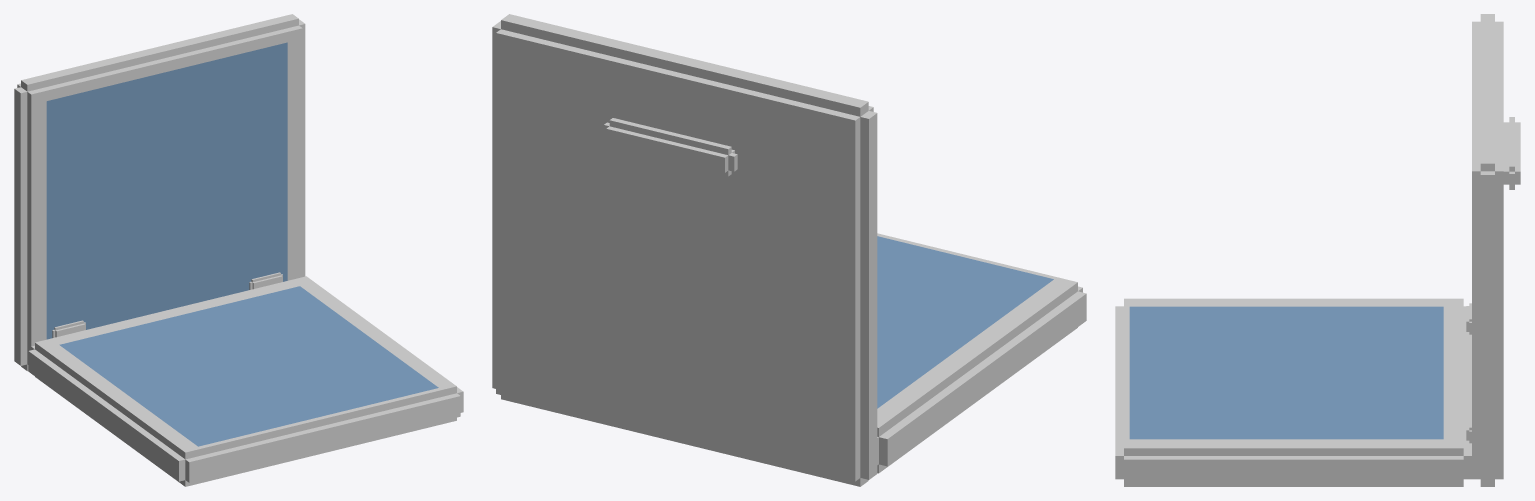
The model's file is navale.glb.
3 renders of one model, left to right at view 1: azimuth 30°, elevation 25°; view 2: azimuth 150°, elevation 25°; view 3: azimuth 270°, elevation 25°, orthographic. The views are drawn at different scales.
Visible parts, largest first — view 1: valigia_coperchio, valigia_base; view 2: valigia_coperchio, valigia_base; view 3: valigia_base, valigia_coperchio.
Boxes of the visible parts, x1,y1,x2,y2 form: valigia_coperchio: [14, 14, 305, 371]; valigia_base: [28, 272, 463, 486]; valigia_coperchio: [492, 14, 877, 486]; valigia_base: [877, 233, 1086, 473]; valigia_base: [1115, 298, 1471, 486]; valigia_coperchio: [1472, 14, 1520, 486].
Size of the model in its own units: 0.26 by 0.256 by 0.284.
